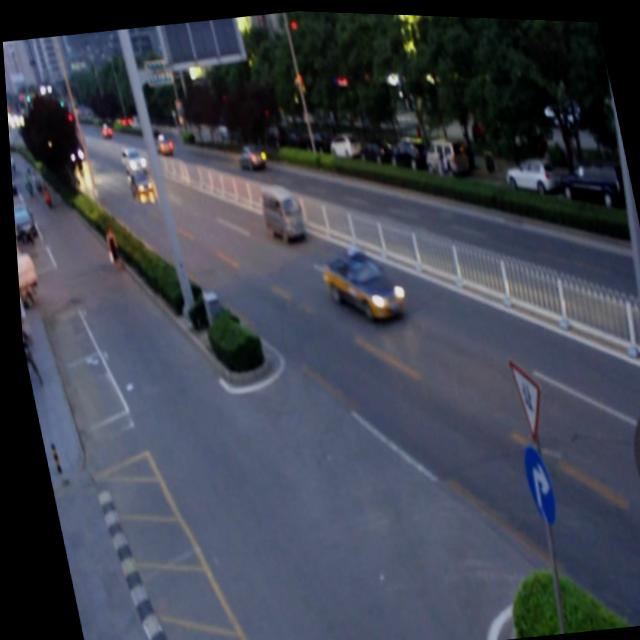car: (315, 241, 401, 323), (233, 138, 265, 169), (124, 164, 151, 195)
truck: (255, 179, 304, 243)
